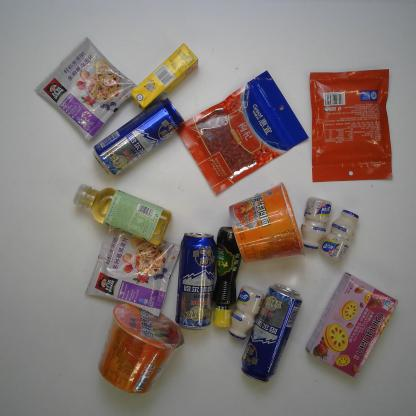Alcohol: (89, 96, 191, 176), (239, 280, 306, 382), (174, 225, 219, 330)
Dessert: (304, 271, 401, 384)
Dried Fruit: (174, 63, 310, 200), (304, 65, 400, 184)
Drink: (73, 180, 177, 250), (129, 36, 200, 114)
Instant Drink: (30, 35, 138, 147), (84, 227, 184, 322)
Instant Noodles: (95, 296, 187, 398), (225, 179, 307, 266)
Milk: (322, 204, 363, 263), (297, 190, 333, 254), (228, 282, 264, 344)
Seasoner: (206, 223, 242, 332)
